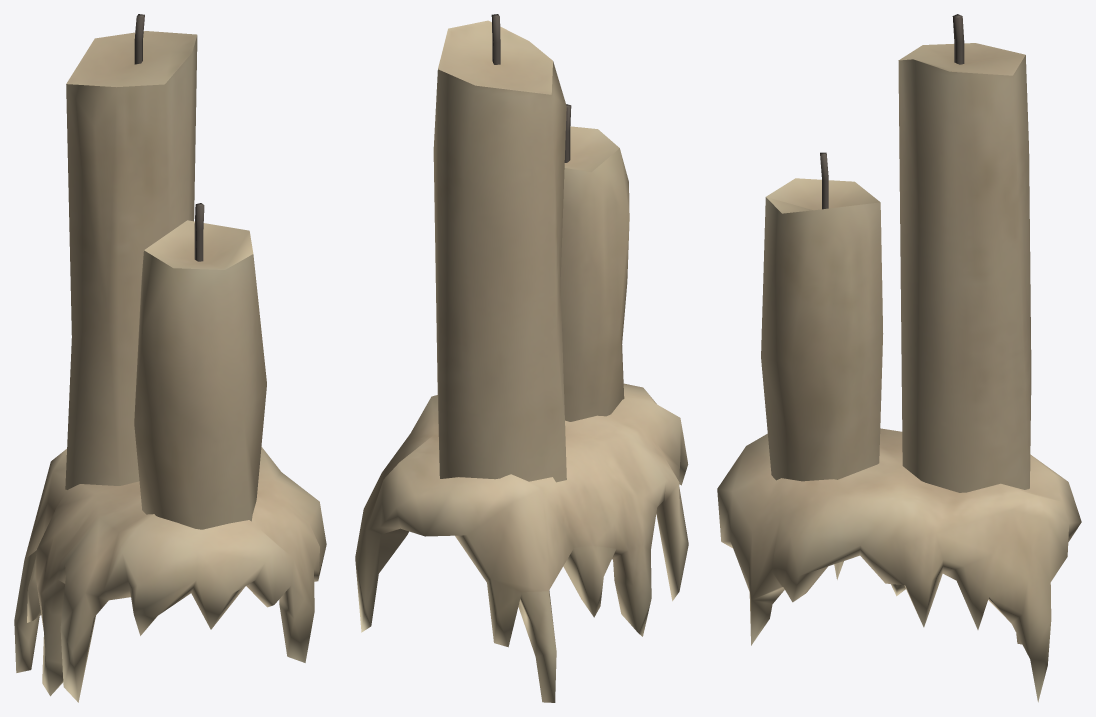
Rendered from SM_Candles_5.fbx.
3 renders of one model, left to right at view 1: azimuth 30°, elevation 25°; view 2: azimuth 150°, elevation 25°; view 3: azimuth 270°, elevation 25°, orthographic. The views are drawn at different scales.
Visible parts, largest first — view 1: SM_Candles_5_LOD0; view 2: SM_Candles_5_LOD0; view 3: SM_Candles_5_LOD0.
Boxes of the visible parts, x1,y1,x2,y2 form: SM_Candles_5_LOD0: [14, 14, 326, 702]; SM_Candles_5_LOD0: [355, 14, 688, 702]; SM_Candles_5_LOD0: [717, 14, 1081, 702].
Size of the model in its own units: 15.92 by 19.84 by 40.24.
